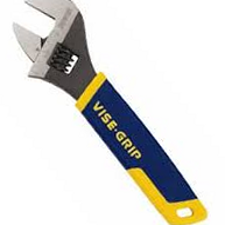Wrench: (7, 2, 211, 225)
